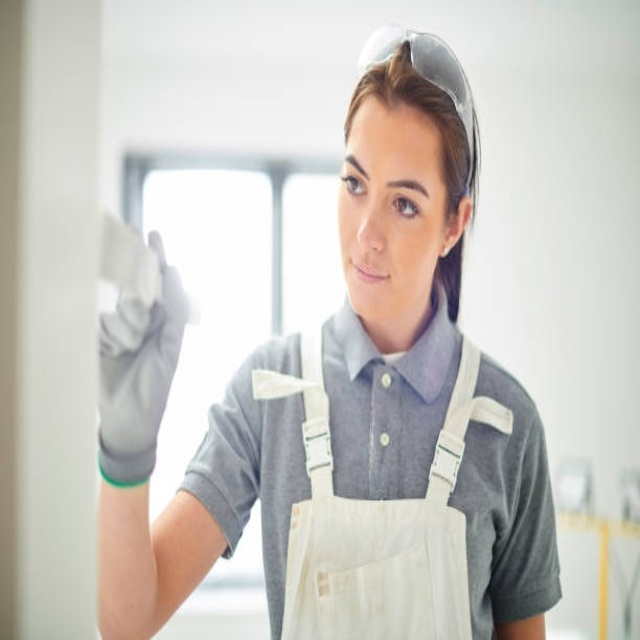Guantes: (94, 223, 199, 484)
Sin_gafas: (340, 147, 431, 229)
Sin_mascara: (342, 253, 397, 304)
